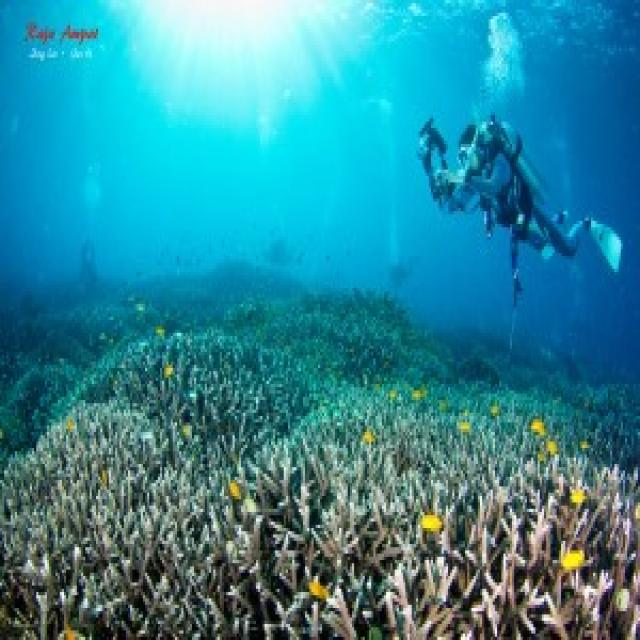Healthy: (206, 391, 639, 638), (1, 401, 227, 638), (84, 334, 312, 436)
